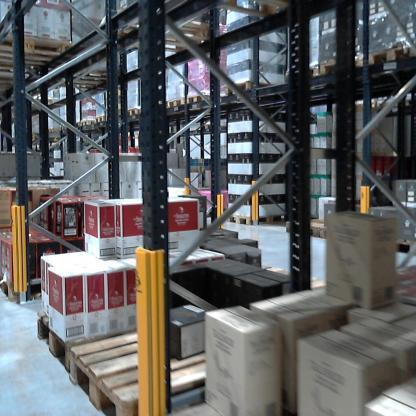pallets: (36, 308, 206, 413), (106, 77, 268, 123), (0, 268, 44, 308), (53, 112, 109, 135), (227, 212, 286, 225)
